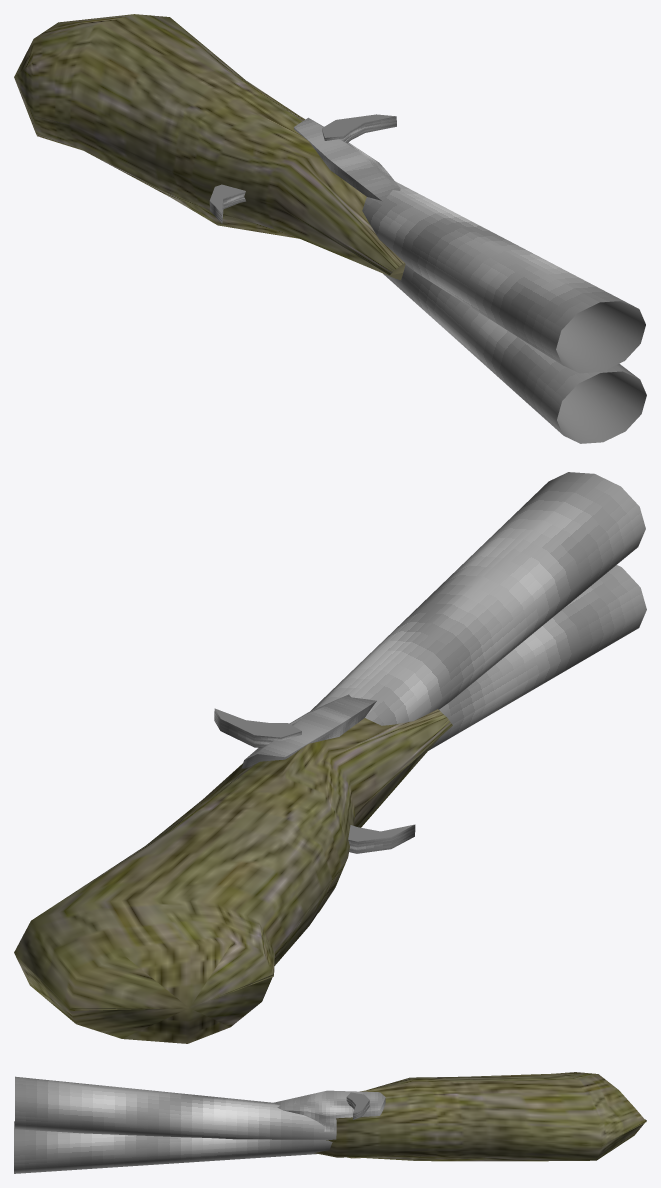
Rendered from shotgun.obj.
3 views of the same model, one above another, from view 1: azimuth 30°, elevation 25°; view 2: azimuth 150°, elevation 25°; view 3: azimuth 270°, elevation 25° (orthographic). The views are drawn at different scales.
Visible parts, largest first — view 1: Duplicate01, Cylinder02, Cylinder01, Cylinder04, Cylinder05, Duplicate03; view 2: Duplicate01, Cylinder02, Cylinder01, Cylinder04, Cylinder05, Duplicate03; view 3: Duplicate01, Cylinder02, Cylinder01, Cylinder04, Cylinder05.
Boxes of the visible parts, x1,y1,x2,y2 form: Duplicate01: [14, 14, 646, 443]; Cylinder02: [362, 181, 645, 373]; Cylinder01: [14, 78, 402, 280]; Cylinder04: [294, 117, 400, 201]; Cylinder05: [322, 114, 396, 143]; Duplicate03: [209, 184, 245, 223]; Duplicate01: [14, 565, 646, 1010]; Cylinder02: [310, 472, 645, 725]; Cylinder01: [14, 737, 439, 1043]; Cylinder04: [241, 694, 376, 768]; Cylinder05: [214, 708, 301, 747]; Duplicate03: [348, 824, 415, 853]; Duplicate01: [14, 1072, 646, 1173]; Cylinder02: [15, 1076, 336, 1139]; Cylinder01: [314, 1119, 646, 1161]; Cylinder04: [273, 1090, 385, 1131]; Cylinder05: [346, 1092, 369, 1119].
Size of the model in its own units: 21.98 by 14.36 by 91.09.
